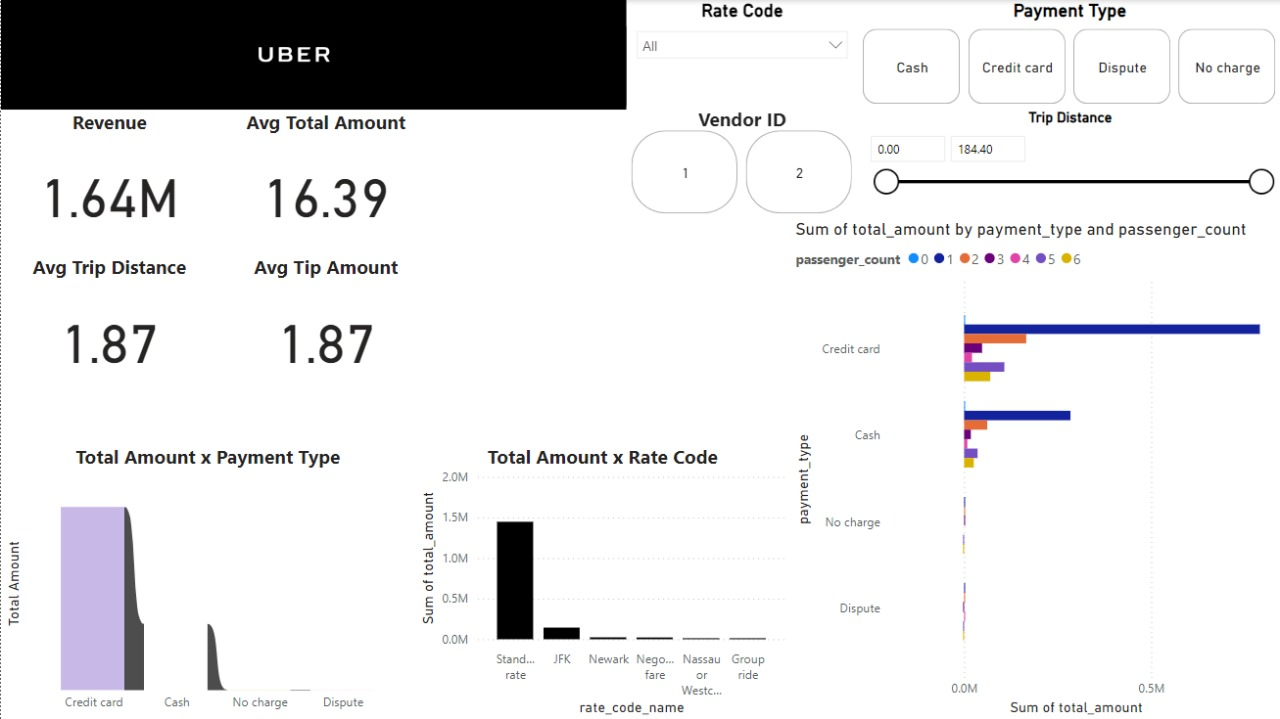

What the dashboard file says about the page in this screenshot:
{"tool":"powerbi","page":{"name":"Page 1","canvas":[1280,720],"ordinal":0},"visuals":[{"type":"card","title":"Revenue","fields":{"Values":["Sum(analytics.total_amount)"]},"box":[0,109.3,216.7,146],"z":0},{"type":"textbox","box":[0,0,1279.7,109.3],"z":1000},{"type":"image","box":[216.4,0,154.1,108.8],"z":2000},{"type":"advancedSlicerVisual","title":"Payment Type","fields":{"Values":["analytics.payment_type"]},"box":[856.1,0,423.6,109.3],"z":3000},{"type":"clusteredBarChart","fields":{"Category":["analytics.payment_type"],"Series":["analytics.passenger_count"],"Y":["Sum(analytics.total_amount)"]},"box":[788.7,218.9,491.6,501.4],"z":4000},{"type":"slicer","title":"Trip Distance","fields":{"Values":["analytics.trip_distance"]},"box":[856,108.8,424.3,110.1],"z":4001},{"type":"slicer","title":"Rate Code","fields":{"Values":["analytics.rate_code_name"]},"box":[624.9,0,231.1,110.1],"z":4002},{"type":"columnChart","title":"Total Amount x Rate Code","fields":{"Category":["analytics.rate_code_name"],"Y":["Sum(analytics.total_amount)"]},"box":[413.3,443.9,375.4,276.4],"z":4003},{"type":"advancedSlicerVisual","title":"Vendor ID","fields":{"Values":["analytics.vendorid"]},"box":[624.9,106.4,231.1,112.5],"z":4004},{"type":"columnChart","title":"Total Amount x Payment Type","fields":{"Y":["Sum(analytics.total_amount)"],"Category":["analytics.payment_type"]},"box":[0,443.9,413.3,276.4],"z":4005},{"type":"card","title":"Avg Total Amount","fields":{"Values":["analytics.Avg Total Amount"]},"box":[216.4,108.8,216.4,145.5],"z":4006},{"type":"card","title":"Avg Trip Distance","fields":{"Values":["analytics.Avg Tip Amount"]},"box":[0,254.3,216.4,145.5],"z":4007},{"type":"card","title":"Avg Tip Amount","fields":{"Values":["analytics.Avg Tip Amount"]},"box":[216.4,254.3,216.4,145.5],"z":4008}]}

Visuals, with their boxes in screenshot pixels (x1, y1, x2, y2), scaled from the page's 1280x720 canvas onto the 1280x719 screenshot:
"Revenue" card: bbox=[0, 109, 217, 255]
textbox: bbox=[0, 0, 1279, 109]
image: bbox=[216, 0, 370, 109]
"Payment Type" advancedSlicerVisual: bbox=[856, 0, 1279, 109]
clusteredBarChart - analytics.payment_type x analytics.passenger_count: bbox=[789, 219, 1279, 718]
"Trip Distance" slicer: bbox=[856, 109, 1279, 219]
"Rate Code" slicer: bbox=[625, 0, 856, 110]
"Total Amount x Rate Code" columnChart: bbox=[413, 443, 789, 718]
"Vendor ID" advancedSlicerVisual: bbox=[625, 106, 856, 219]
"Total Amount x Payment Type" columnChart: bbox=[0, 443, 413, 718]
"Avg Total Amount" card: bbox=[216, 109, 433, 254]
"Avg Trip Distance" card: bbox=[0, 254, 216, 399]
"Avg Tip Amount" card: bbox=[216, 254, 433, 399]
